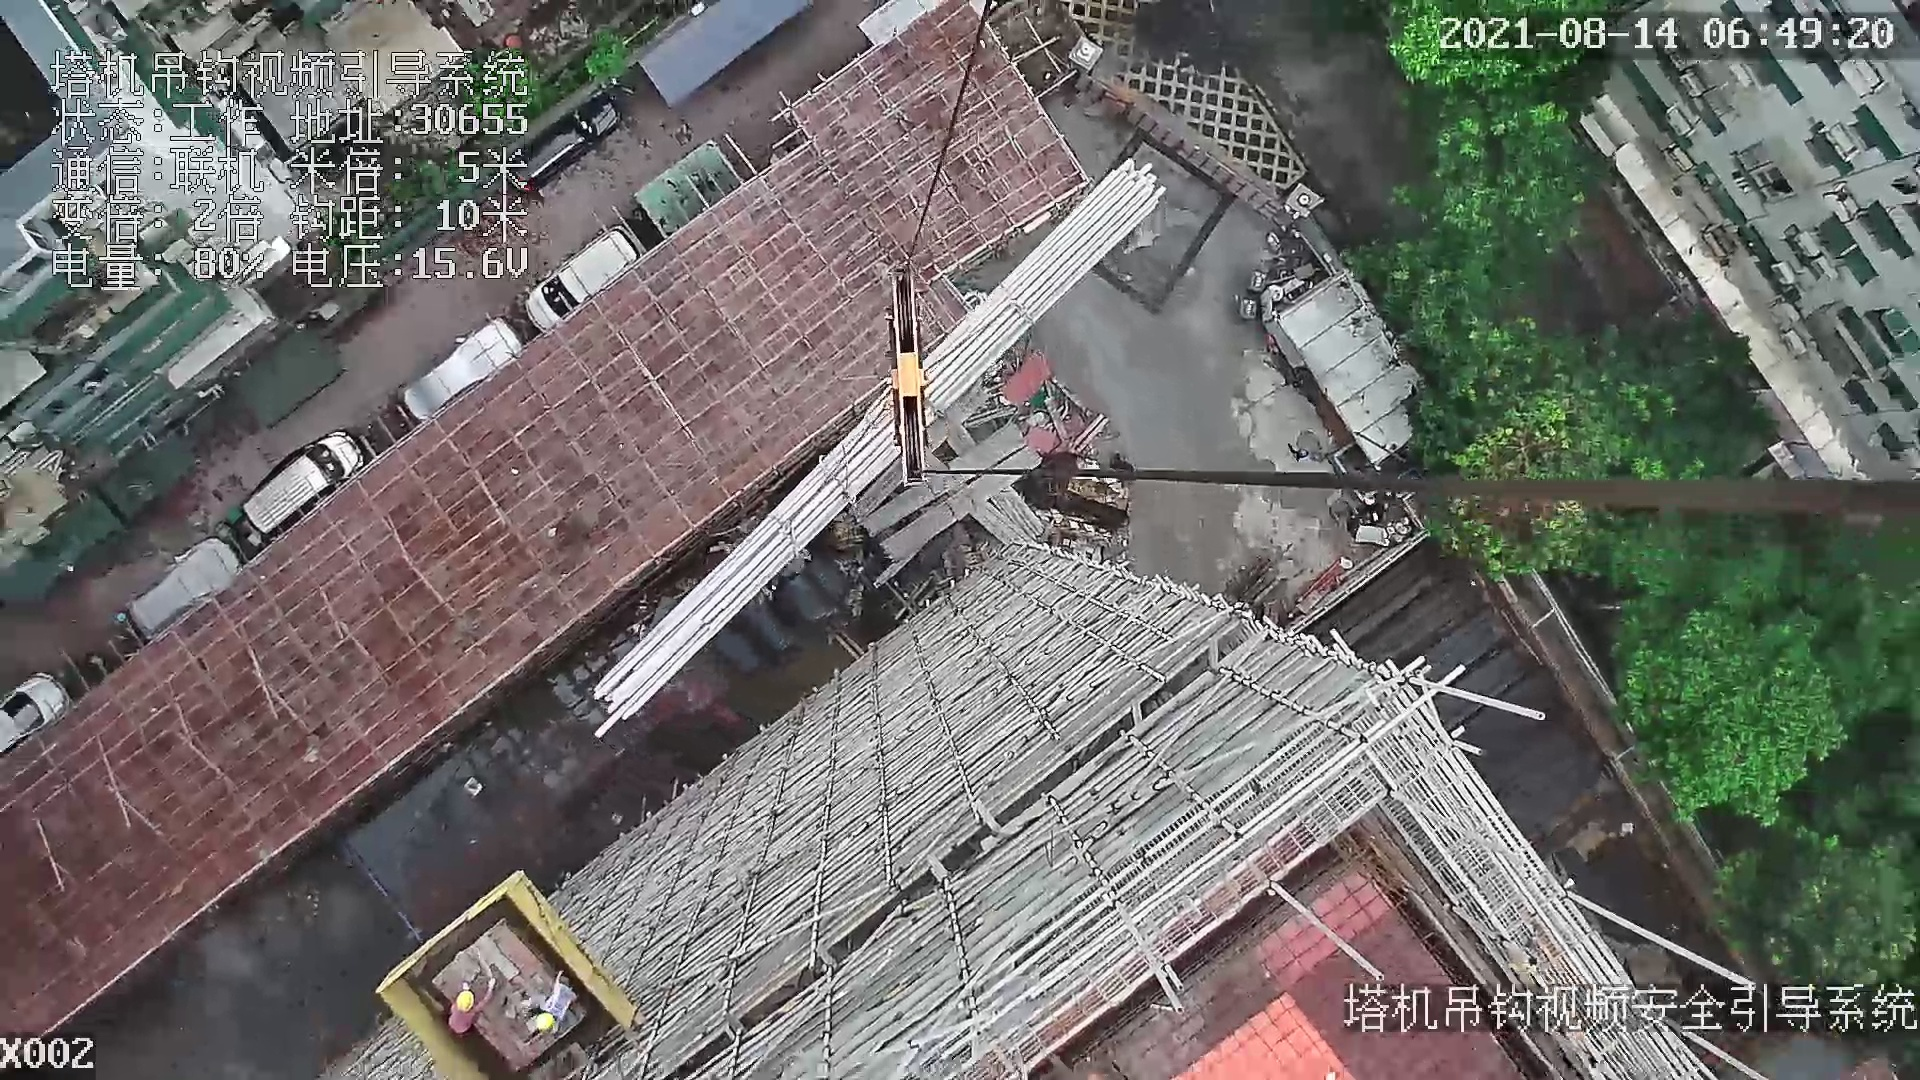helmet: (533, 1010, 555, 1035), (453, 993, 480, 1010)
hook: (879, 258, 941, 492)
person: (531, 974, 581, 1041), (451, 989, 494, 1036)
